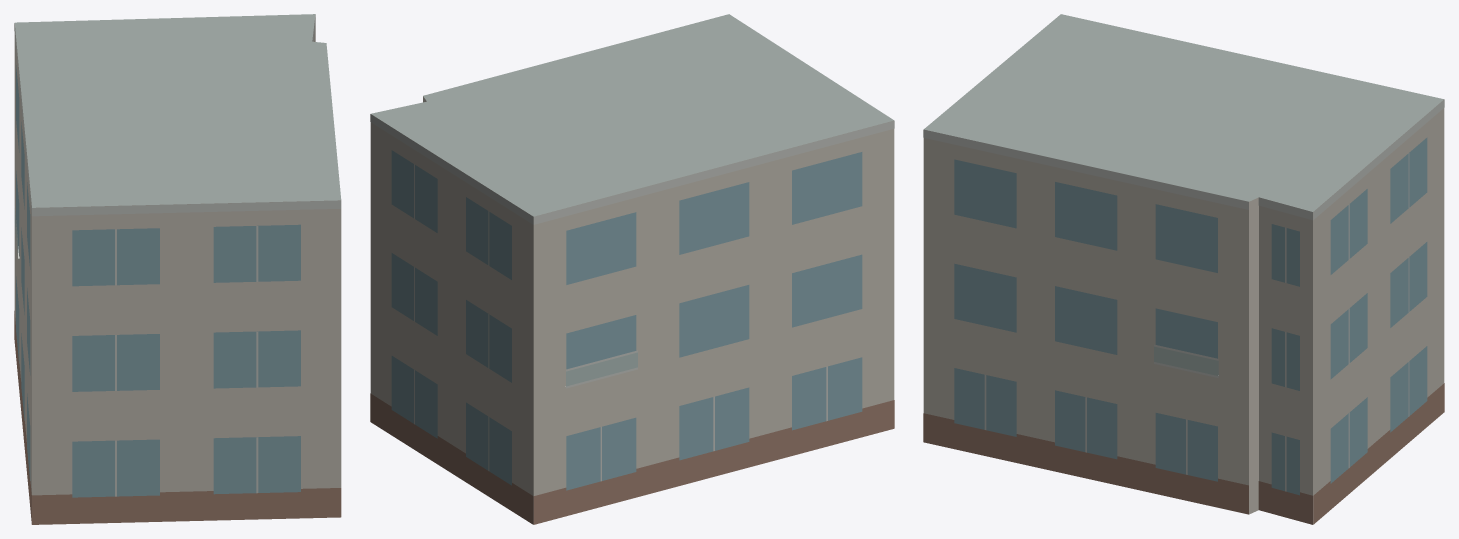
The model's file is survey-upis-32720974.glb.
3 renders of one model, left to right at view 1: azimuth 30°, elevation 25°; view 2: azimuth 150°, elevation 25°; view 3: azimuth 270°, elevation 25°, orthographic. The views are drawn at different scales.
Parts seen in each view (by area): view 1: survey-upis-32720974.tmp; view 2: survey-upis-32720974.tmp; view 3: survey-upis-32720974.tmp.
Part boxes in pixels (bbox=[...]): survey-upis-32720974.tmp: bbox=[14, 14, 341, 524]; survey-upis-32720974.tmp: bbox=[370, 14, 894, 524]; survey-upis-32720974.tmp: bbox=[923, 14, 1444, 524].
Bounding box in the file's own units: 12.43 × 9.15 × 13.82.
